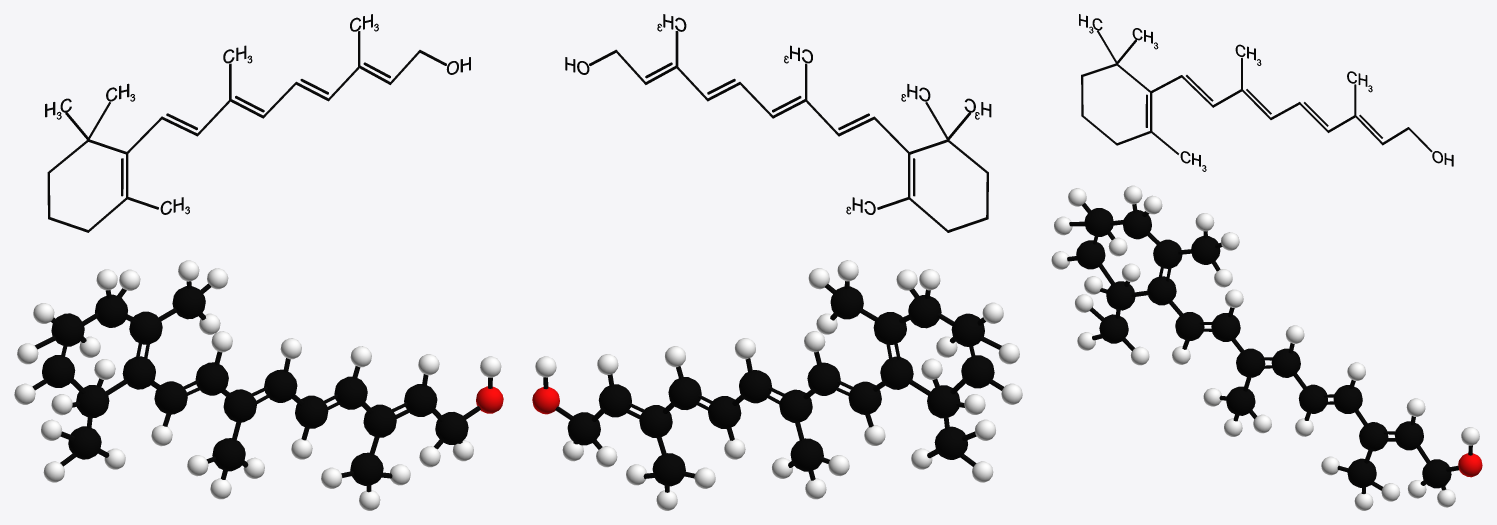
Rendered from vitamin_a.glb.
3 views of the same model, side by side, from view 1: azimuth 30°, elevation 25°; view 2: azimuth 150°, elevation 25°; view 3: azimuth 330°, elevation 25° (orthographic). The views are drawn at different scales.
Parts seen in each view (by area): view 1: Box044_black_0, Box024_white_0, Object002_red_0; view 2: Box044_black_0, Box024_white_0, Object002_red_0; view 3: Box044_black_0, Box024_white_0.
Part boxes in pixels (x1,y1,x2,y2): Box044_black_0: (32, 14, 492, 492); Box024_white_0: (14, 260, 501, 510); Object002_red_0: (476, 386, 503, 413); Box044_black_0: (543, 14, 1003, 492); Box024_white_0: (535, 260, 1022, 510); Object002_red_0: (532, 386, 559, 414); Box044_black_0: (1067, 14, 1472, 493); Box024_white_0: (1051, 185, 1479, 510).
Bounding box in the file's own units: 0.9159 × 0.8907 × 0.0549.
